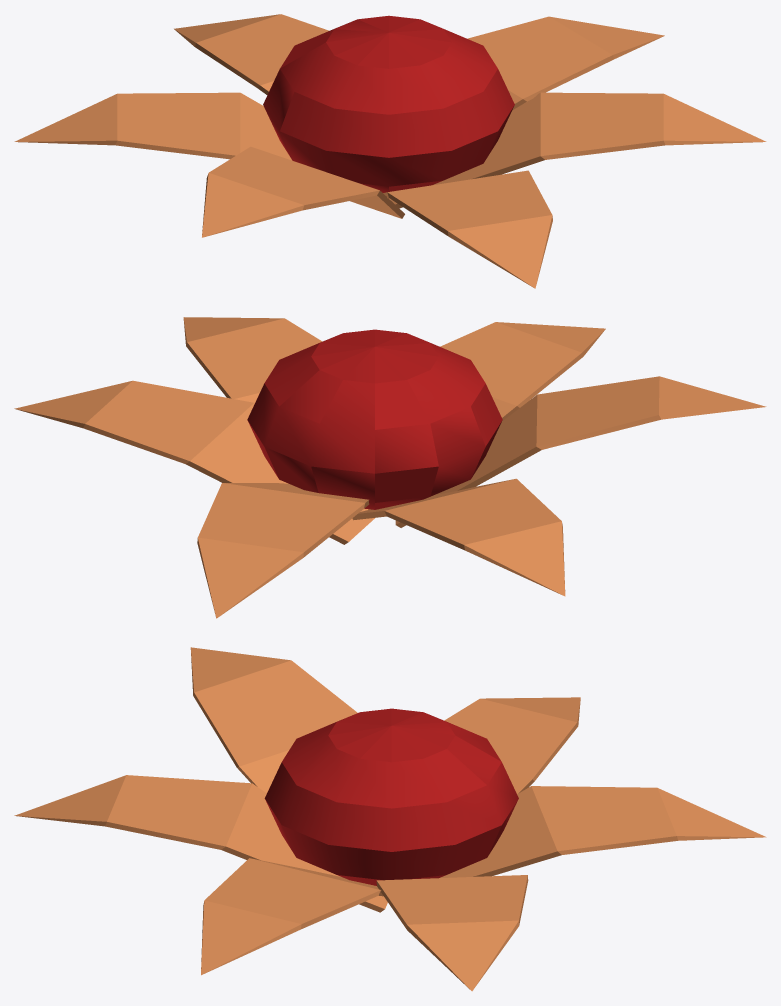
The model's file is Flower_f_a_02.fbx.
3 views of the same model, one above another, from view 1: azimuth 30°, elevation 25°; view 2: azimuth 150°, elevation 25°; view 3: azimuth 270°, elevation 25° (orthographic).
Visible parts, largest first — view 1: Flower_f_a_02_LOD0; view 2: Flower_f_a_02_LOD0; view 3: Flower_f_a_02_LOD0.
Boxes of the visible parts, left/top/right/bottom form: Flower_f_a_02_LOD0: left=14, top=14, right=766, bottom=288; Flower_f_a_02_LOD0: left=14, top=317, right=766, bottom=618; Flower_f_a_02_LOD0: left=14, top=647, right=766, bottom=991.
Size of what is drawn, in the model's own units: 3.92 by 1.06 by 4.2.
